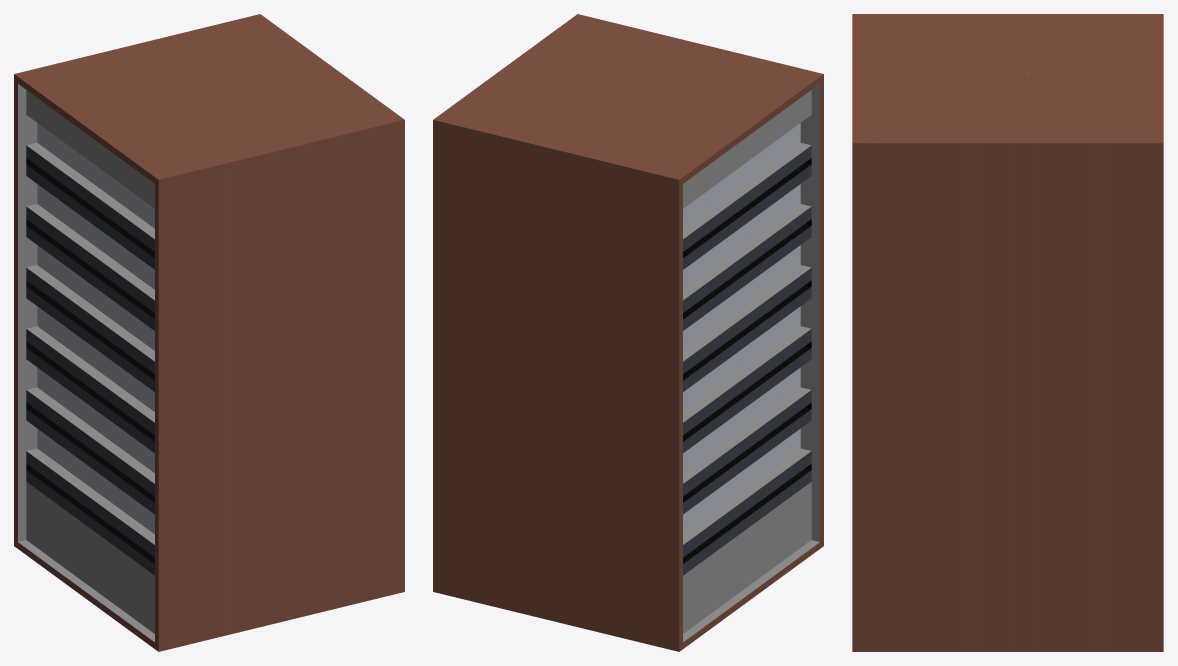
File: server_export_2.FBX
3 views of the same model, side by side, from view 1: azimuth 30°, elevation 25°; view 2: azimuth 150°, elevation 25°; view 3: azimuth 270°, elevation 25° (orthographic). The views are drawn at different scales.
Visible parts, largest first — view 1: Box003; view 2: Box003; view 3: Box003.
Part boxes in pixels (x1,y1,x2,y2): Box003: (14, 14, 404, 651); Box003: (433, 14, 823, 651); Box003: (852, 14, 1163, 651).
Bounding box in the file's own units: 38.09 × 69.79 × 38.74.
9 materials, 4 textured.
